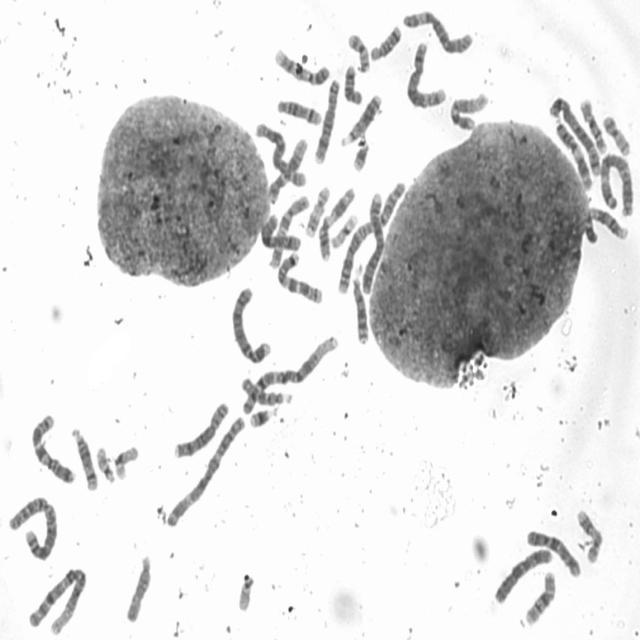A1: (238, 331, 340, 417), (25, 562, 88, 636)
A2: (357, 178, 405, 296), (4, 492, 60, 562)
A3: (165, 412, 246, 529), (597, 151, 635, 216)
B4: (338, 188, 385, 294), (229, 283, 273, 366)
B5: (546, 91, 602, 176), (404, 38, 447, 110)
C10: (266, 191, 311, 270), (524, 526, 583, 578)
C11: (317, 184, 357, 262), (553, 116, 594, 190)
C12: (266, 134, 310, 204), (447, 89, 490, 132)
C6: (252, 118, 309, 189), (401, 7, 474, 55)
C7: (29, 410, 78, 486), (274, 250, 325, 306)
C8: (170, 398, 231, 460), (312, 74, 342, 164)
C9: (271, 43, 331, 87), (583, 205, 630, 244)
D13: (338, 90, 384, 148), (350, 274, 370, 348)
D14: (66, 422, 100, 494), (273, 96, 322, 128)
D15: (238, 371, 294, 411), (123, 552, 153, 624)
E16: (523, 567, 558, 628), (578, 96, 608, 154)
E17: (574, 508, 604, 565), (302, 182, 331, 238)
E18: (368, 22, 403, 62), (342, 62, 364, 106)
F19: (329, 210, 359, 250), (112, 442, 140, 481)
F20: (600, 110, 632, 157), (345, 29, 372, 74)
G21: (246, 402, 279, 430), (350, 132, 370, 173)
G22: (94, 444, 116, 485), (236, 570, 256, 614)
X: (491, 546, 554, 606), (259, 215, 302, 252)
